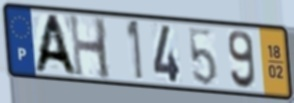1: (124, 18, 145, 85)
4: (151, 22, 183, 85)
5: (186, 26, 220, 87)
9: (226, 29, 257, 91)
A: (31, 13, 80, 78)
H: (67, 12, 113, 82)
